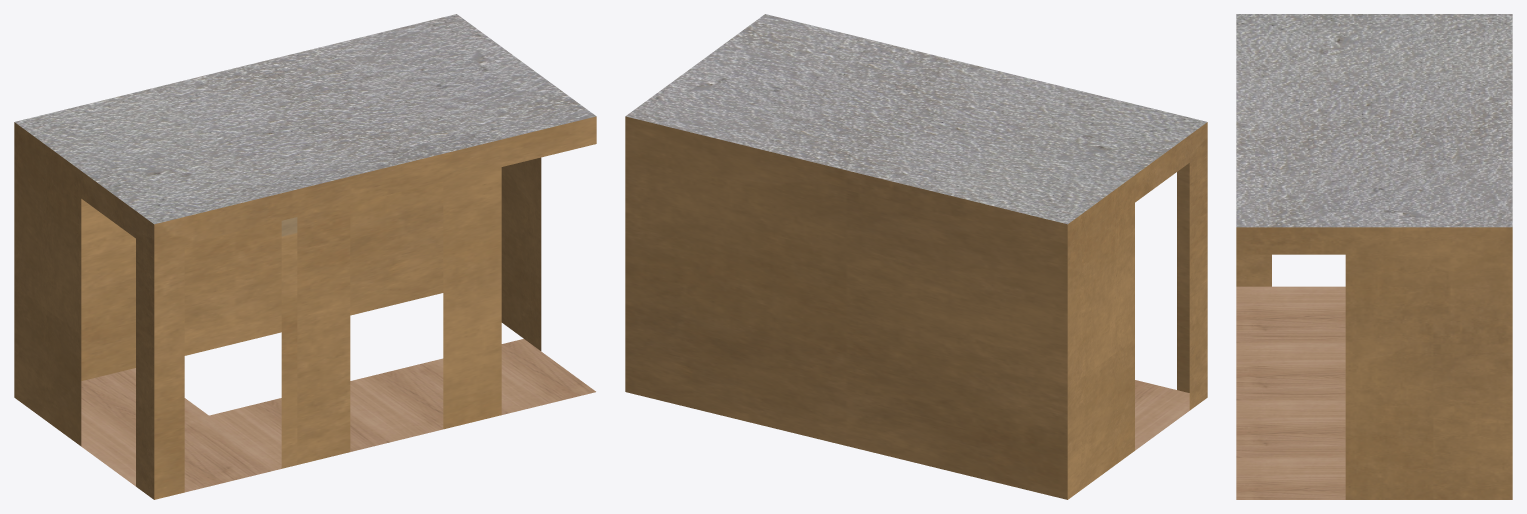
The model's file is hallUpstairs.fbx.
3 renders of one model, left to right at view 1: azimuth 30°, elevation 25°; view 2: azimuth 150°, elevation 25°; view 3: azimuth 270°, elevation 25°, orthographic.
Parts seen in each view (by area): view 1: Cube; view 2: Cube; view 3: Cube.
Part boxes in pixels (box(x1,y1,x2,y2)): Cube: box(14, 14, 596, 499); Cube: box(625, 14, 1207, 499); Cube: box(1236, 14, 1512, 499).
Bounding box in the file's own units: 2100 × 1250 × 1150.
